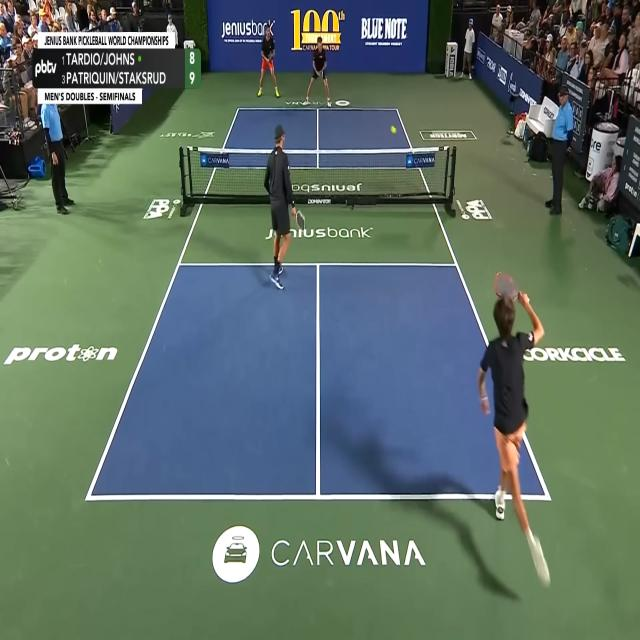ball: (390, 125, 397, 134)
